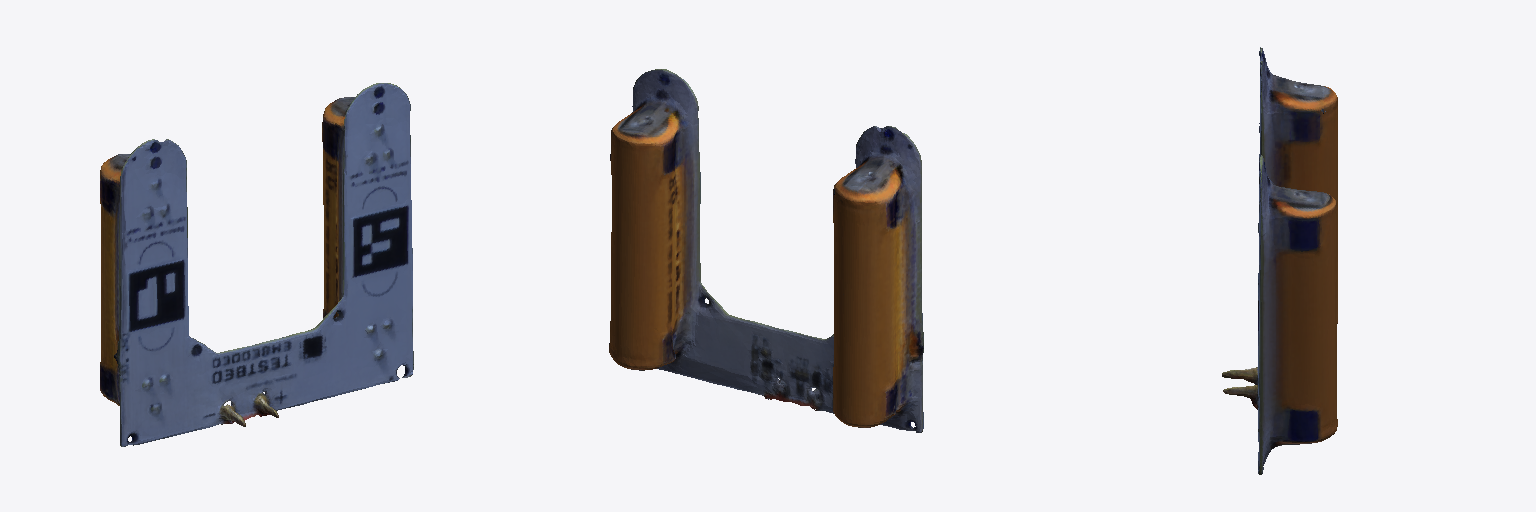
3 renders of one model, left to right at view 1: azimuth 30°, elevation 25°; view 2: azimuth 150°, elevation 25°; view 3: azimuth 270°, elevation 25°, orthographic.
Visible parts, largest first — view 1: mesh; view 2: mesh; view 3: mesh.
Part boxes in pixels (x1,y1,x2,y2): mesh: (100, 83, 413, 446); mesh: (609, 69, 923, 432); mesh: (1222, 47, 1337, 474).
Size of the model in its own units: 87.29 by 86 by 29.86.
Materials: 1 (1 with a texture image).